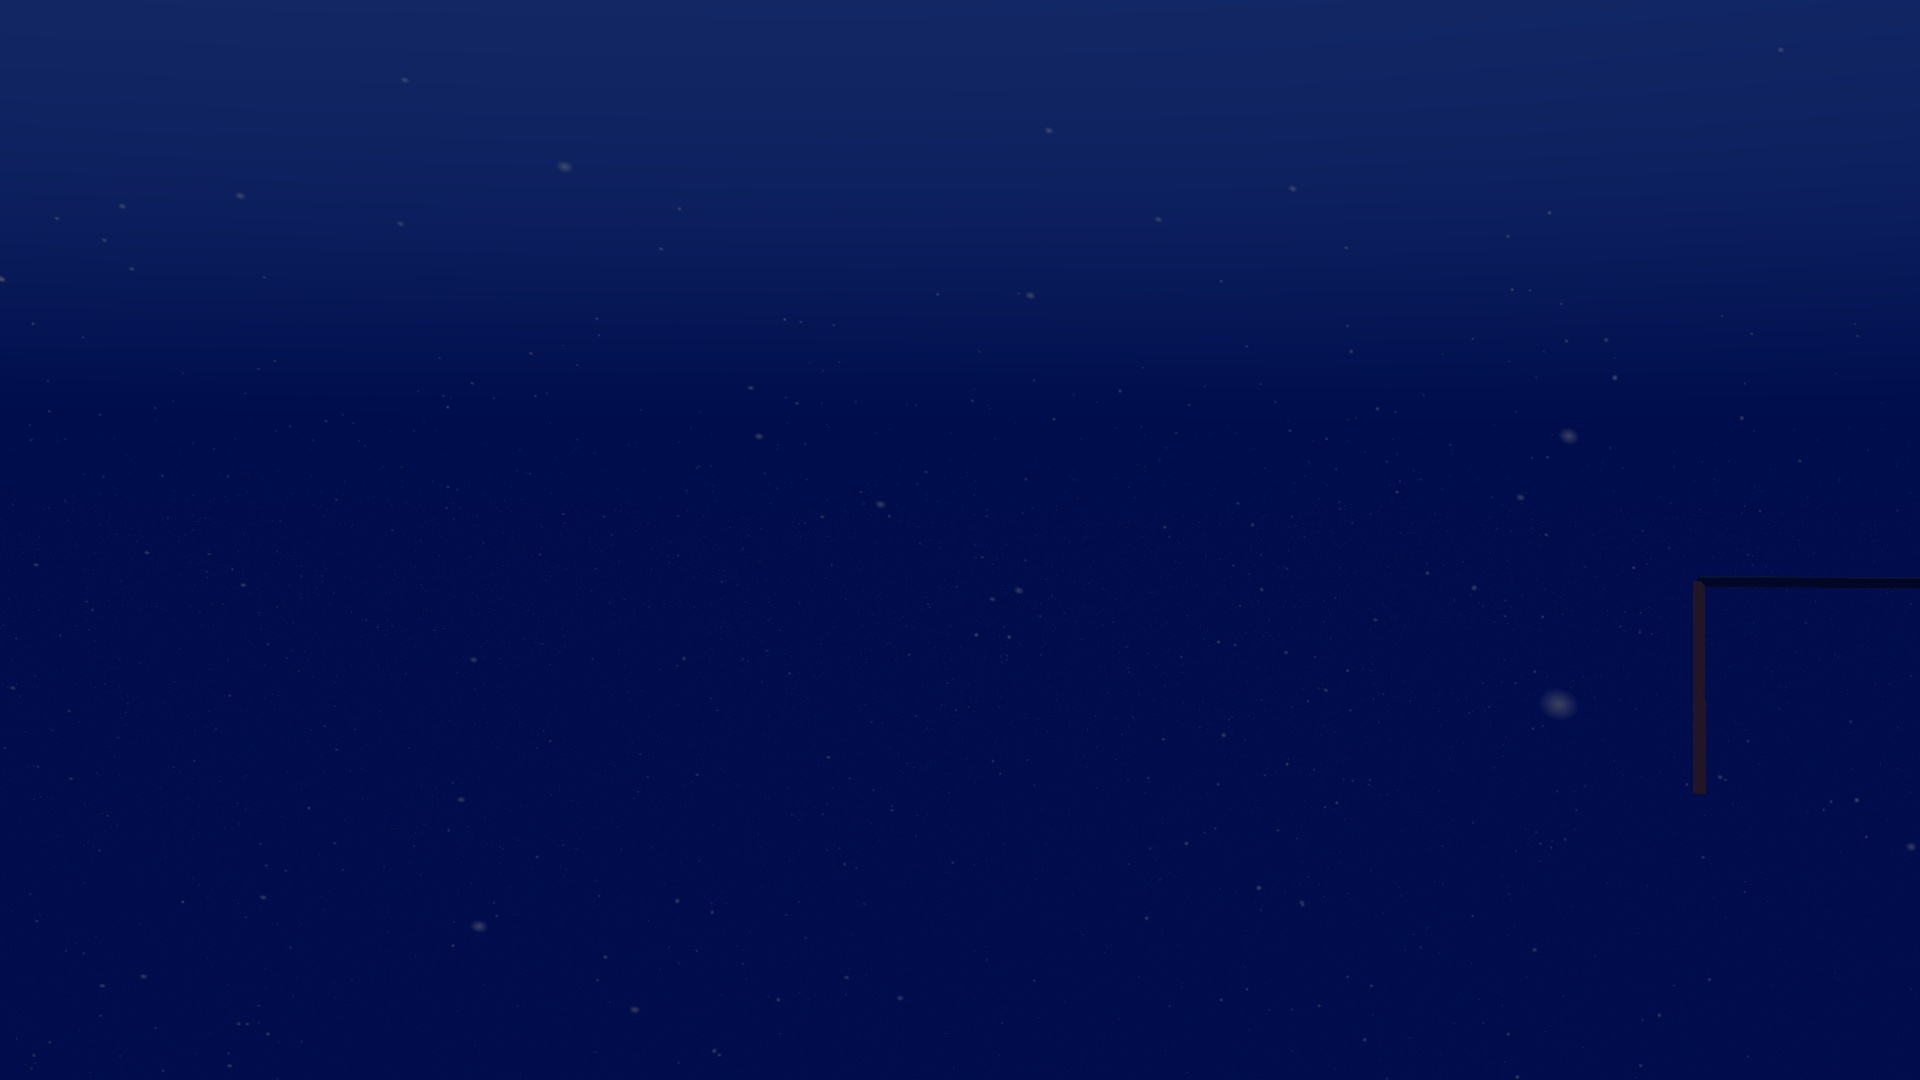Gate: (1681, 568, 1920, 804)
